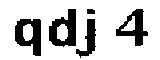4: (113, 7, 151, 52)
d: (48, 7, 79, 50)
j: (79, 6, 104, 60)
q: (12, 14, 44, 60)
